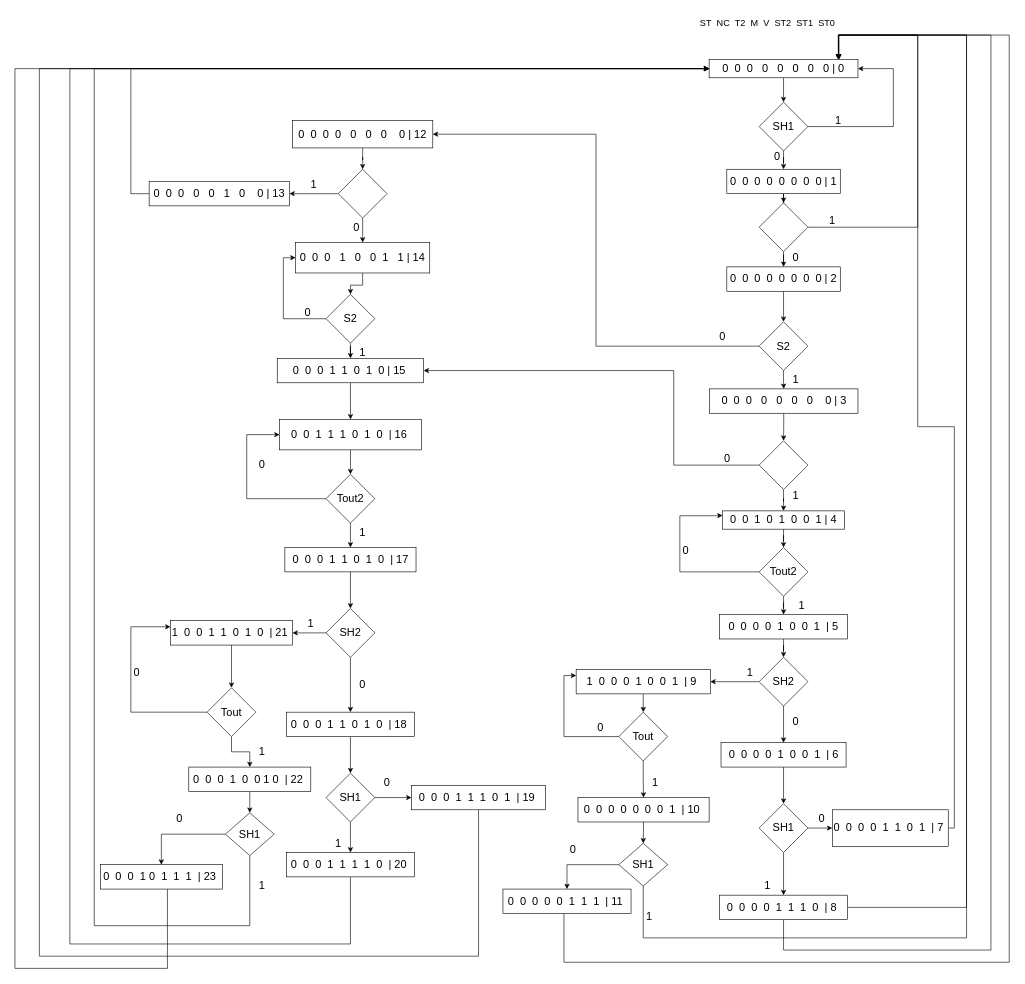
This 1025x984 diagram has some shape labels left out. Here are the shapes that lost their labels. From the top down, the centre of each, then its label:
At point 362,193: "MSA".
At point 783,227: "SC".
At point 783,465: "S1".
